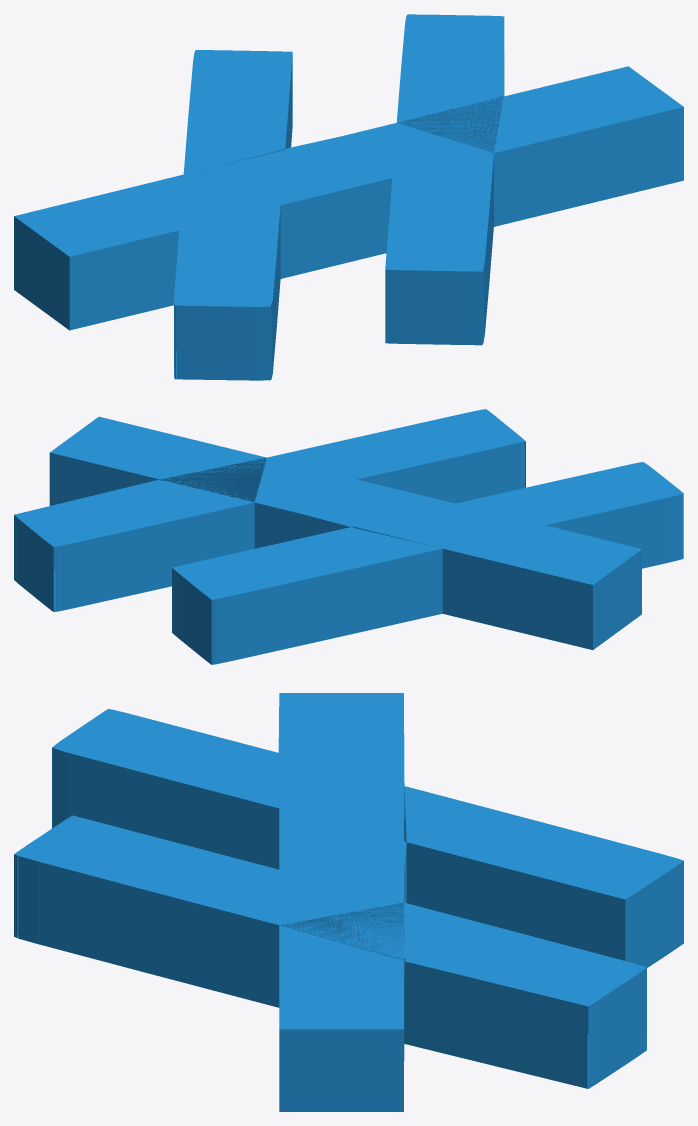
Rendered from onicomicosis.gltf.
3 views of the same model, one above another, from view 1: azimuth 30°, elevation 25°; view 2: azimuth 150°, elevation 25°; view 3: azimuth 270°, elevation 25° (orthographic). The views are drawn at different scales.
Parts seen in each view (by area): view 1: Trazar; view 2: Trazar; view 3: Trazar.
Boxes of the visible parts, x1,y1,x2,y2 form: Trazar: [14, 14, 683, 380]; Trazar: [14, 409, 683, 664]; Trazar: [14, 693, 683, 1111].
Size of the model in its own units: 1.75 by 0.2 by 1.47.
